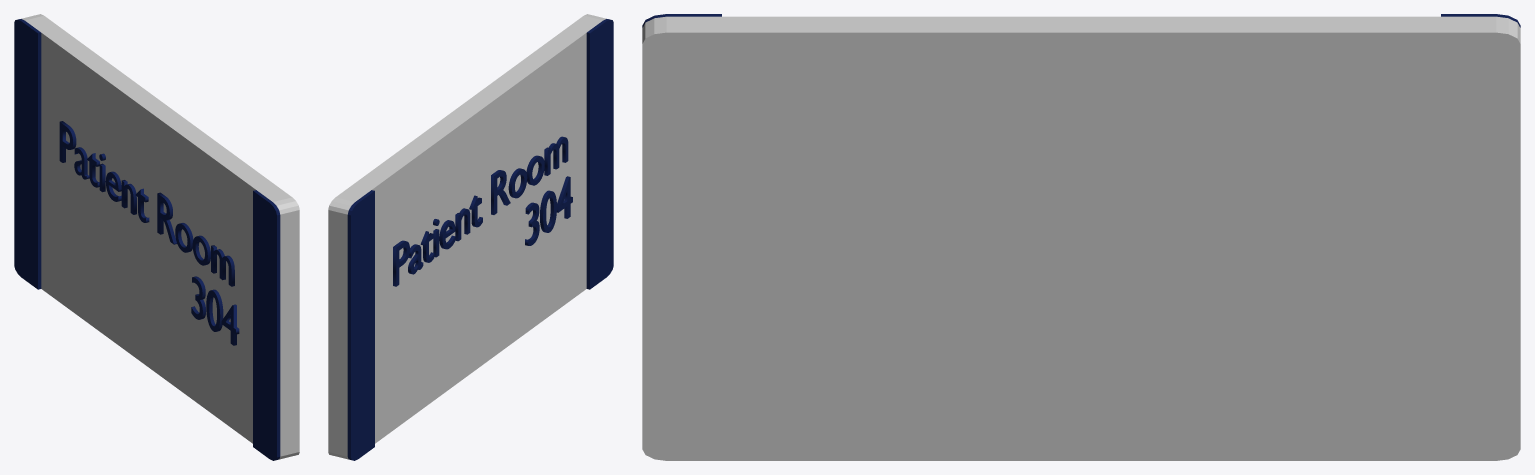
The model's file is PatientNumber.fbx.
3 renders of one model, left to right at view 1: azimuth 30°, elevation 25°; view 2: azimuth 150°, elevation 25°; view 3: azimuth 270°, elevation 25°, orthographic. The views are drawn at different scales.
Parts seen in each view (by area): view 1: Cube, Text.001; view 2: Cube, Text.001; view 3: Cube.
Boxes of the visible parts, x1,y1,x2,y2 form: Cube: (14,14,299,460); Text.001: (59,121,239,345); Cube: (328,14,613,460); Text.001: (393,136,572,286); Cube: (642,14,1520,460).
Size of the model in its own units: 28.18 by 302 by 562.
